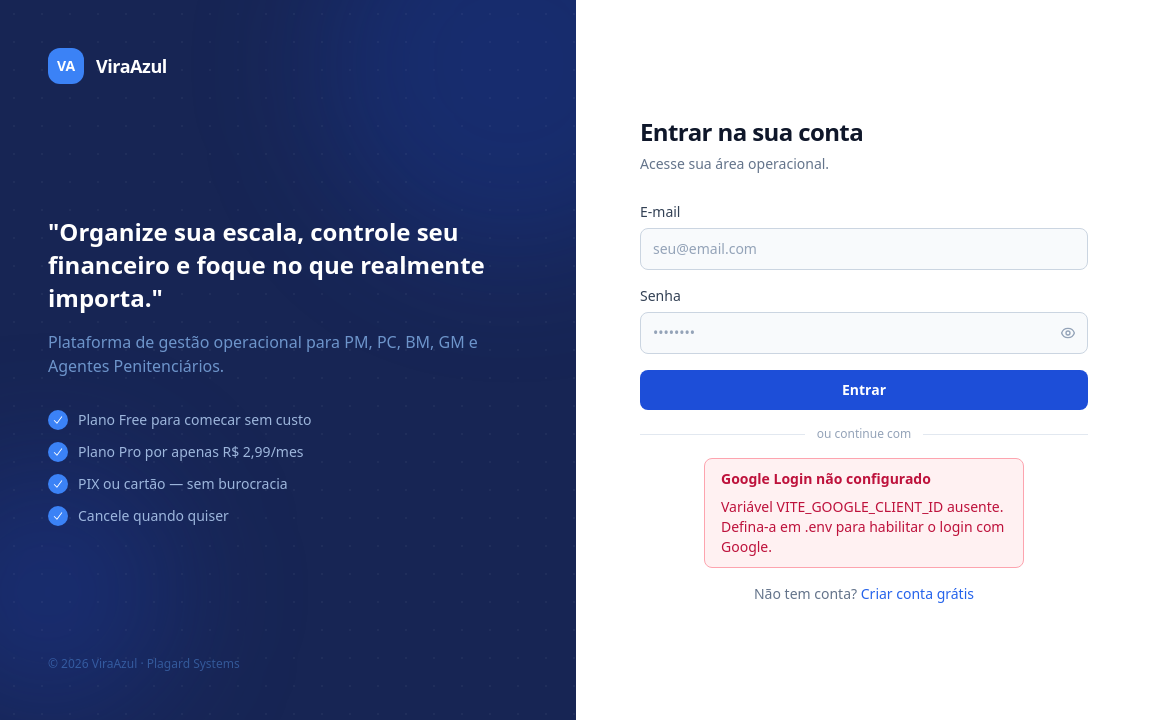
Test: Login flow with auth API › shows backend error message when login fails
Type "wrong@viraazul.local" into the field labelled "E-mail".
click(864, 249); type("wrong@viraazul.local")  # box [640, 228, 1088, 270]
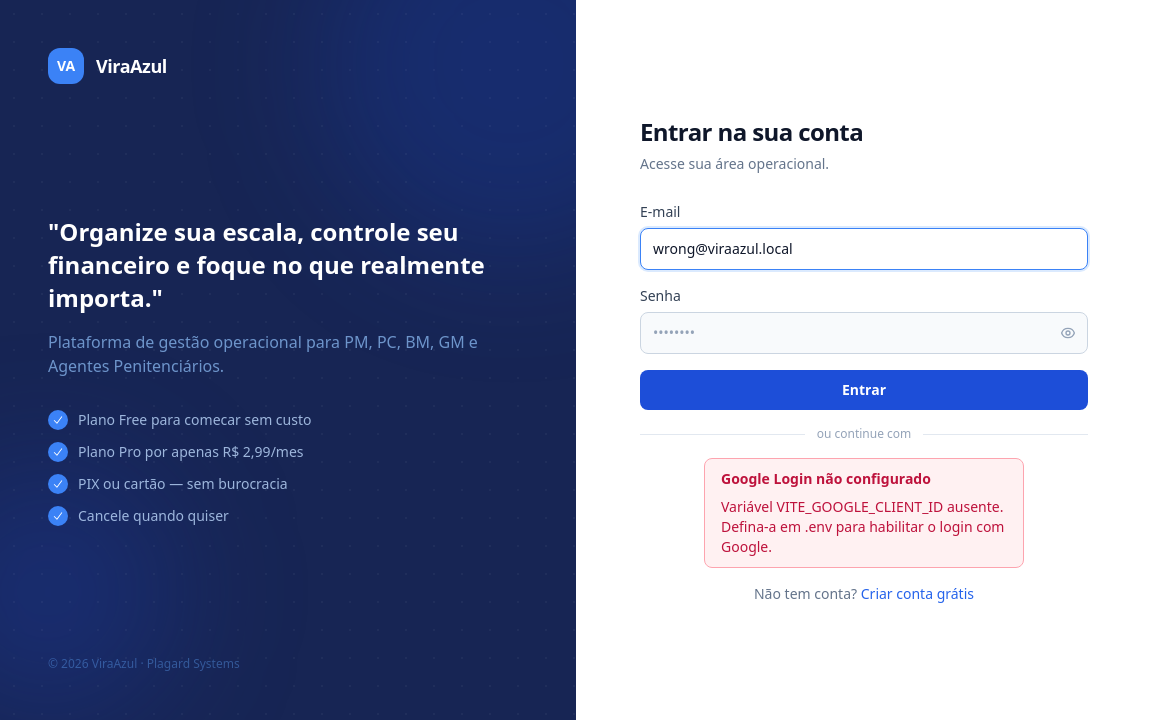
Type "wrong-password" into the password field labelled "Senha".
click(864, 333); type("wrong-password")  # box [640, 312, 1088, 354]
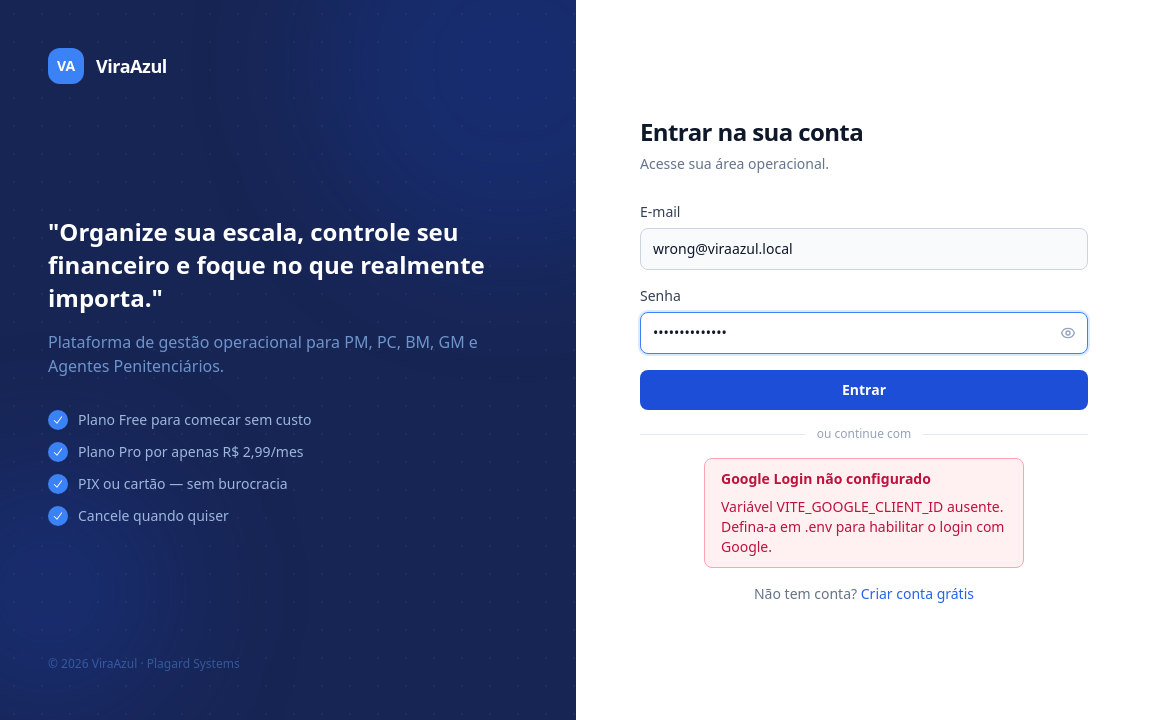
Click the button "Entrar".
click(864, 390)  # box [640, 370, 1088, 410]
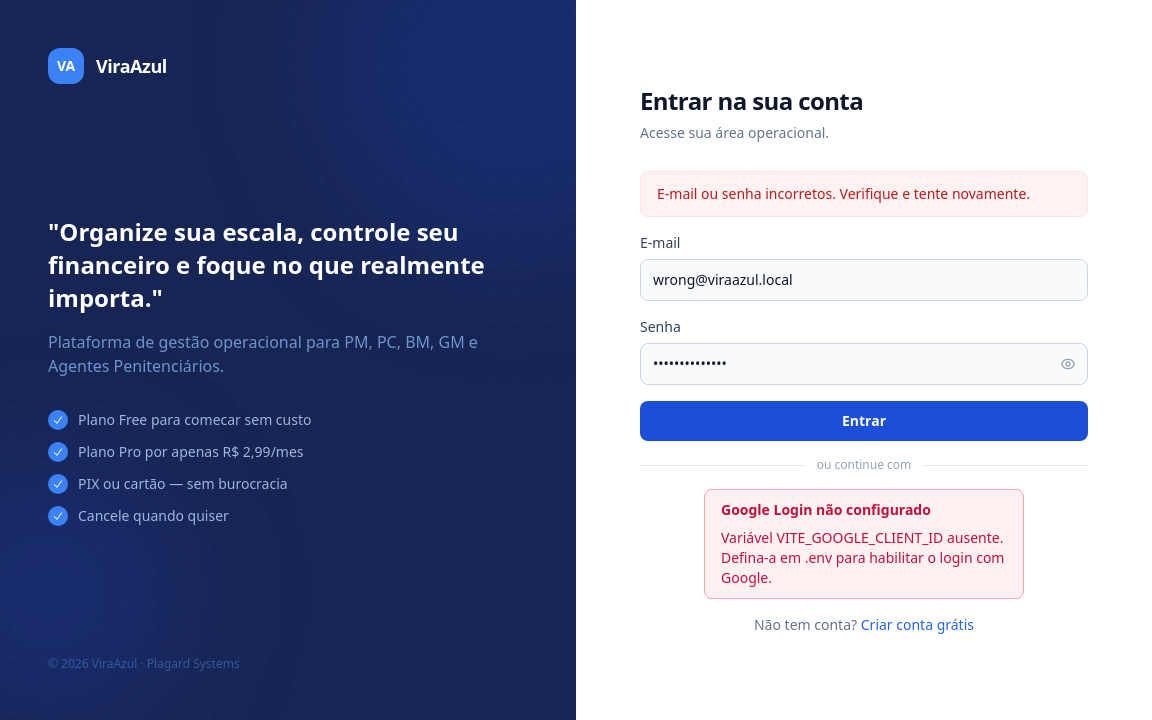
Expected: the text "E-mail ou senha incorretos. Verifique e tente novamente." is shown, [640, 171, 1088, 217]
